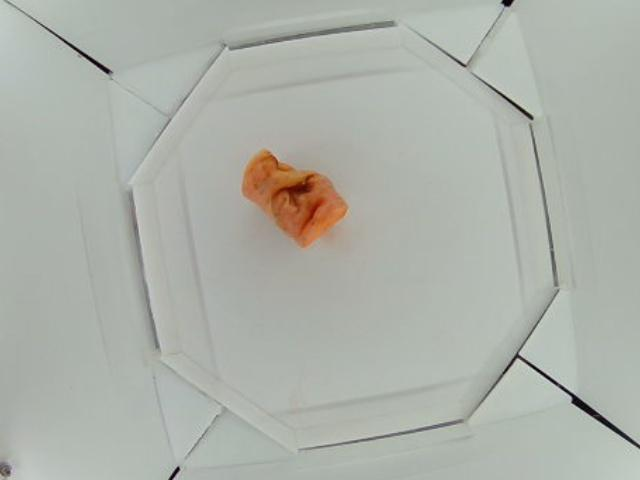Carrot: (241, 150, 346, 249)
